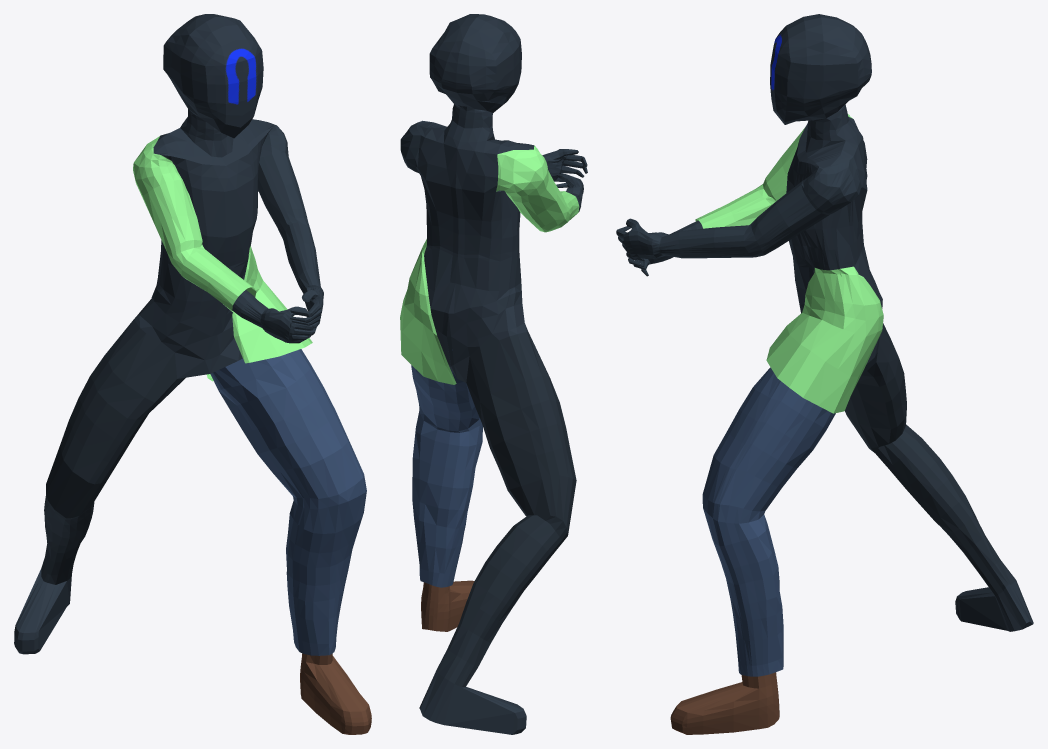
Rendered from Mar_WL_000023.obj.
3 views of the same model, side by side, from view 1: azimuth 30°, elevation 25°; view 2: azimuth 150°, elevation 25°; view 3: azimuth 270°, elevation 25° (orthographic). The views are drawn at different scales.
Parts seen in each view (by area): view 1: Cube.000_Cube.001; view 2: Cube.000_Cube.001; view 3: Cube.000_Cube.001.
Boxes of the visible parts, x1,y1,x2,y2 form: Cube.000_Cube.001: (14, 14, 371, 734); Cube.000_Cube.001: (400, 14, 587, 734); Cube.000_Cube.001: (616, 14, 1033, 734).
Size of the model in its own units: 1.33 by 3.73 by 2.09.
